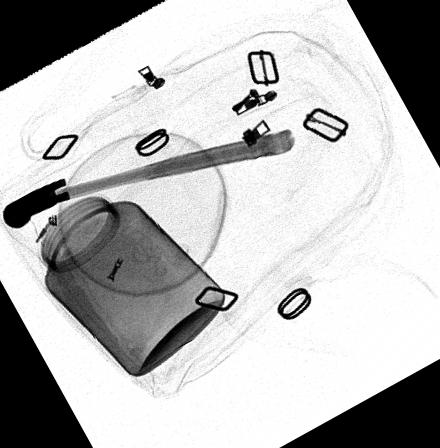Hammer: (2, 126, 295, 229)
